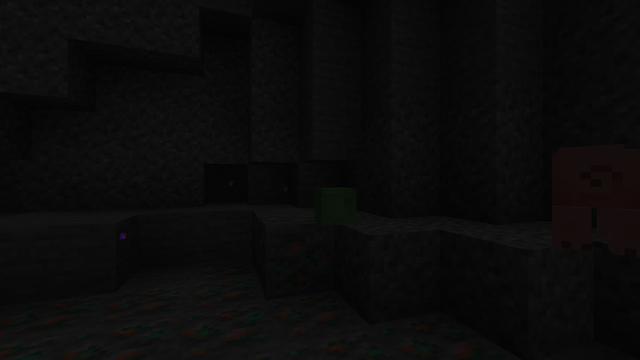cochons: (516, 144, 638, 257)
slimes: (312, 186, 358, 225)
